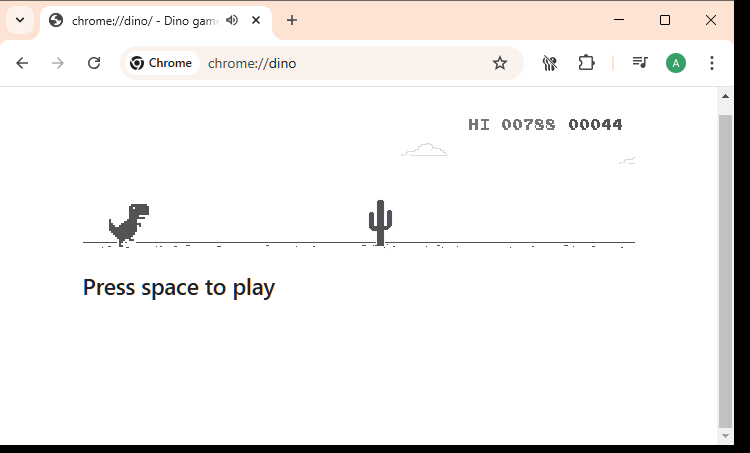cactus: (368, 199, 392, 247)
dino: (107, 203, 151, 248)
